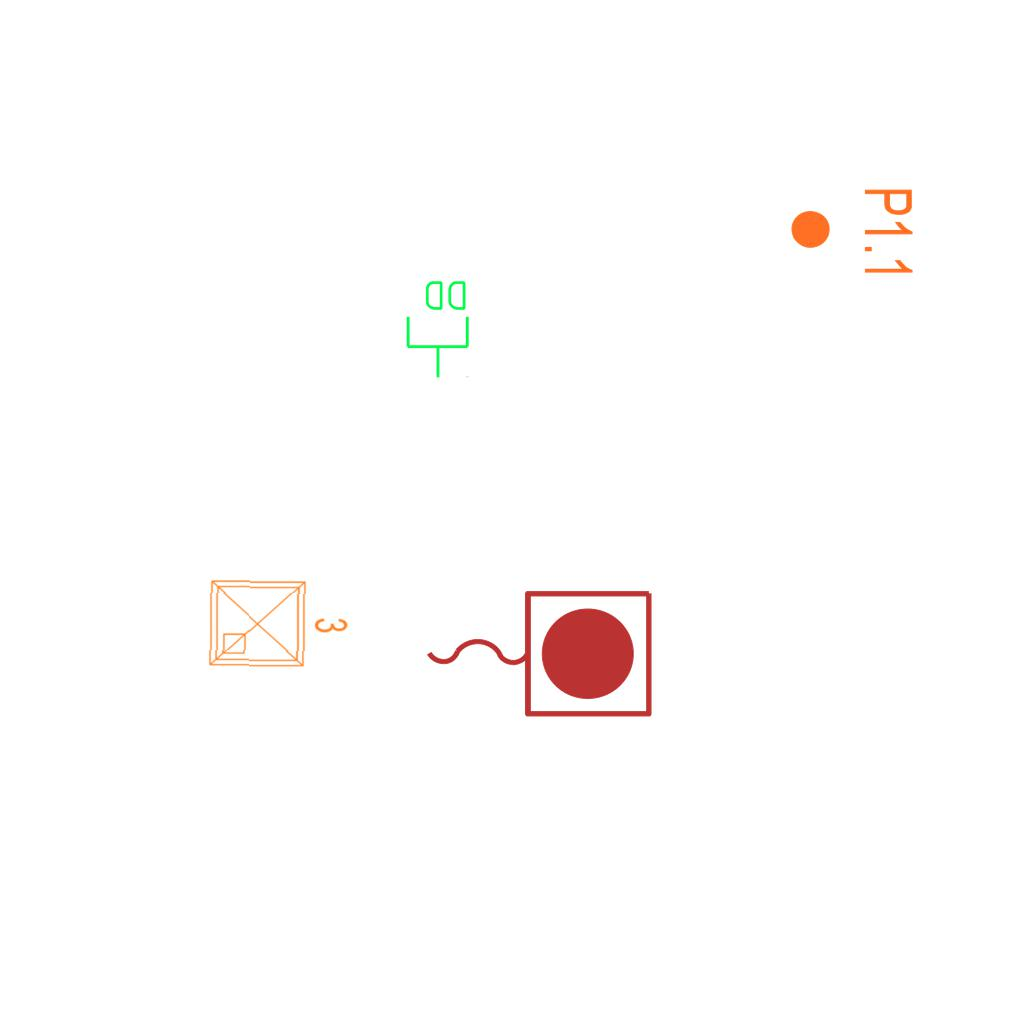Datenanschluss_zweifach: (404, 277, 473, 380)
Downlight_LED_Einbauleuchten_Flur: (788, 186, 916, 279)
Einbaudownlights_LED_Konferenzraeume: (202, 568, 354, 676)
Zugtaster: (416, 580, 660, 724)
